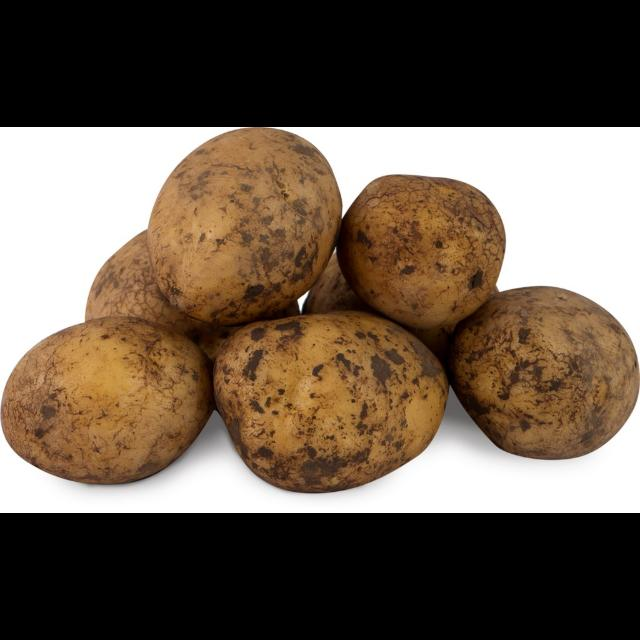Diseased-fungal potato: (207, 311, 447, 495), (83, 216, 309, 406), (147, 128, 343, 324), (2, 314, 222, 486), (443, 286, 639, 462), (338, 173, 507, 331)
